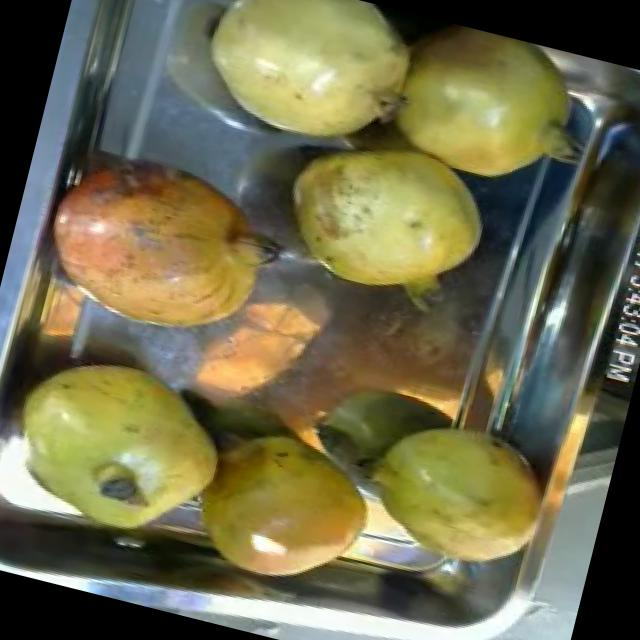fruit: (14, 123, 298, 363), (0, 331, 249, 565), (253, 112, 510, 332), (332, 388, 572, 598), (356, 11, 602, 214), (162, 402, 400, 610), (171, 0, 438, 173)
